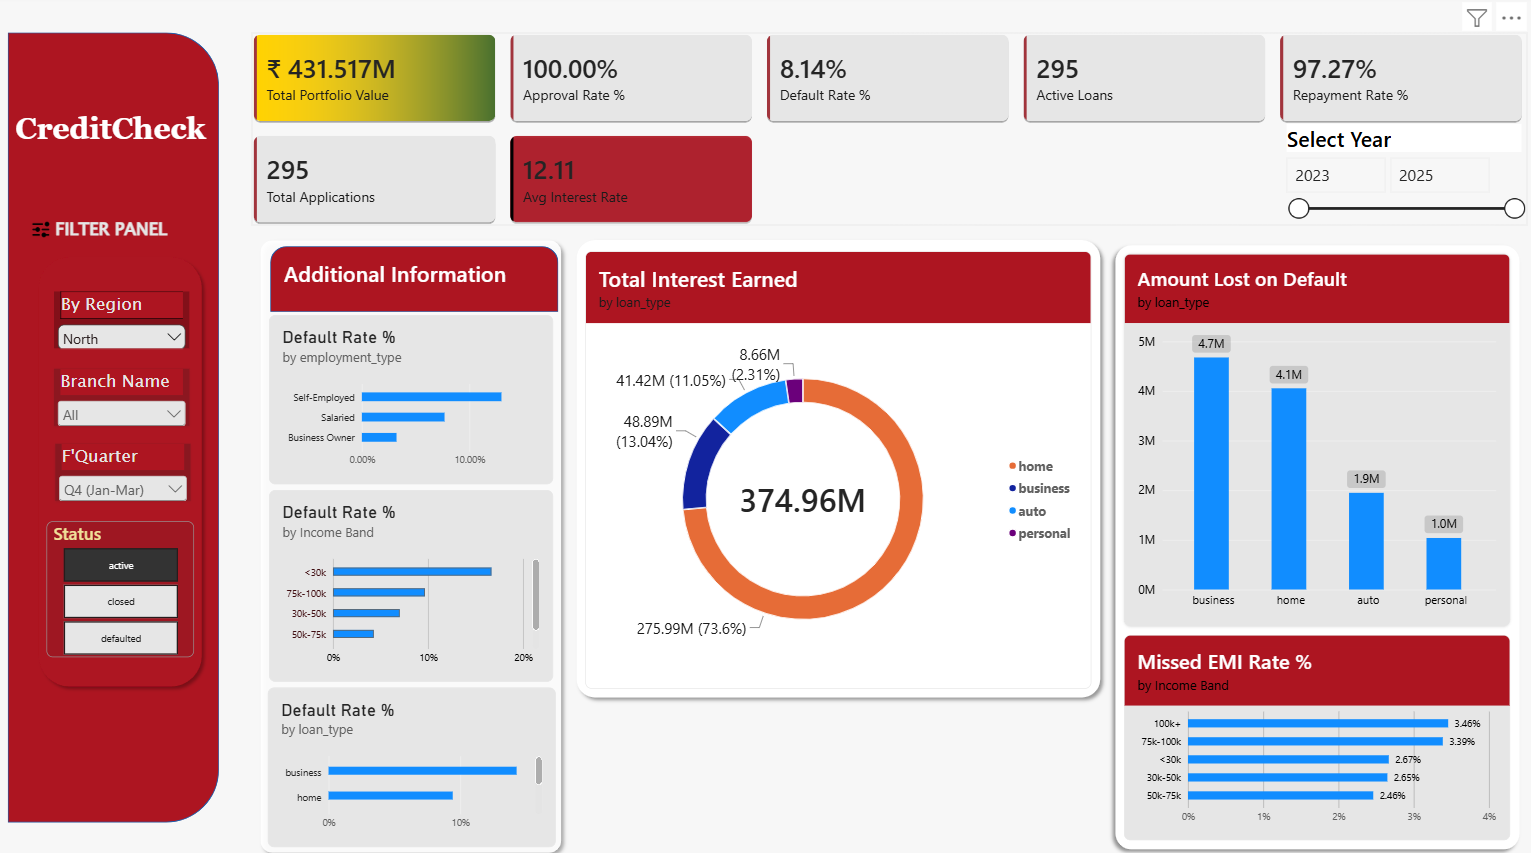

The dashboard page shown, as its layout file describes it:
{"tool":"powerbi","page":{"name":"Page 2","canvas":[1920,1080],"ordinal":1},"visuals":[{"type":"cardVisual","fields":{"Data":["loans.Total Portfolio Value","loan_applications.Approval Rate %","loans.Default Rate %","loans.Active Loans","repayments.Repayment Rate %","loan_applications.Total Applications","loans.Avg Interest Rate"]},"box":[314.9,46.8,1591.6,240],"z":0},{"type":"shape","box":[10.9,46.8,263.5,985.2],"z":1000},{"type":"shape","box":[40.5,318,221.4,553.4],"z":2000},{"type":"slicer","fields":{"Values":["branches.region"]},"box":[68,369.8,169.2,71.5],"z":3000},{"type":"slicer","fields":{"Values":["branches.branch_name"]},"box":[68,465.7,169.2,71.5],"z":4000},{"type":"slicer","fields":{"Values":["Dates.Financial Quarter"]},"box":[69.8,559.9,169.2,71.5],"z":5000},{"type":"slicer","fields":{"Values":["loans.status"]},"box":[59.3,655.8,184,169.9],"z":6000},{"type":"image","box":[40.5,271.2,23.4,42.1],"z":7000},{"type":"textbox","box":[70.2,275.9,191.7,42.1],"z":8000},{"type":"textbox","box":[20.3,145,246.3,68.6],"z":9000},{"type":"slicer","fields":{"Values":["Dates.Year"]},"box":[1597.7,160.5,308.7,223.3],"z":10000},{"type":"shape","box":[315.7,296.5,394.2,783.1],"z":11000},{"type":"barChart","fields":{"Category":["customers.Income Band"],"Y":["loans.Default Rate %"]},"box":[336.6,617.4,354.1,239],"z":12000},{"type":"barChart","fields":{"Category":["customers.employment_type"],"Y":["loans.Default Rate %"]},"box":[336.6,399.4,354.1,211],"z":13000},{"type":"barChart","fields":{"Category":["loans.loan_type"],"Y":["loans.Default Rate %"]},"box":[334.9,863.4,359.3,198.8],"z":14000},{"type":"shape","box":[710.9,296.2,671.9,589.3],"z":15000},{"type":"shape","box":[338.4,314,359.3,82],"z":16000},{"type":"textbox","box":[355.8,329.7,336.6,54.1],"z":17000},{"type":"donutChart","fields":{"Category":["loans.loan_type"],"Y":["loans.Total Interest Earned"]},"box":[731.1,319.6,631.4,545.6],"z":18000},{"type":"shape","box":[1383.1,301.7,523.3,772.7],"z":19000},{"type":"clusteredColumnChart","fields":{"Category":["loans.loan_type"],"Y":["loans.Amount Lost on Default"]},"box":[1402.3,322.7,481.4,464],"z":20000},{"type":"clusteredBarChart","fields":{"Category":["customers.Income Band"],"Y":["repayments.Missed EMI Rate %"]},"box":[1402.3,798.8,481.4,256.4],"z":21000}]}

Visuals, with their boxes in screenshot pixels (x1, y1, x2, y2), scaled from the page's 1920x1080 canvas onto the 1531x853 screenshot:
cardVisual - loans.Total Portfolio Value x loan_applications.Approval Rate %: 251, 37, 1520, 227
shape: 9, 37, 219, 815
shape: 32, 251, 209, 688
slicer - branches.region: 54, 292, 189, 349
slicer - branches.branch_name: 54, 368, 189, 424
slicer - Dates.Financial Quarter: 56, 442, 191, 499
slicer - loans.status: 47, 518, 194, 652
image: 32, 214, 51, 247
textbox: 56, 218, 209, 251
textbox: 16, 115, 213, 169
slicer - Dates.Year: 1274, 127, 1520, 303
shape: 252, 234, 566, 852
barChart - customers.Income Band x loans.Default Rate %: 268, 488, 551, 676
barChart - customers.employment_type x loans.Default Rate %: 268, 315, 551, 482
barChart - loans.loan_type x loans.Default Rate %: 267, 682, 554, 839
shape: 567, 234, 1103, 699
shape: 270, 248, 556, 313
textbox: 284, 260, 552, 303
donutChart - loans.loan_type x loans.Total Interest Earned: 583, 252, 1086, 683
shape: 1103, 238, 1520, 849
clusteredColumnChart - loans.loan_type x loans.Amount Lost on Default: 1118, 255, 1502, 621
clusteredBarChart - customers.Income Band x repayments.Missed EMI Rate %: 1118, 631, 1502, 833
